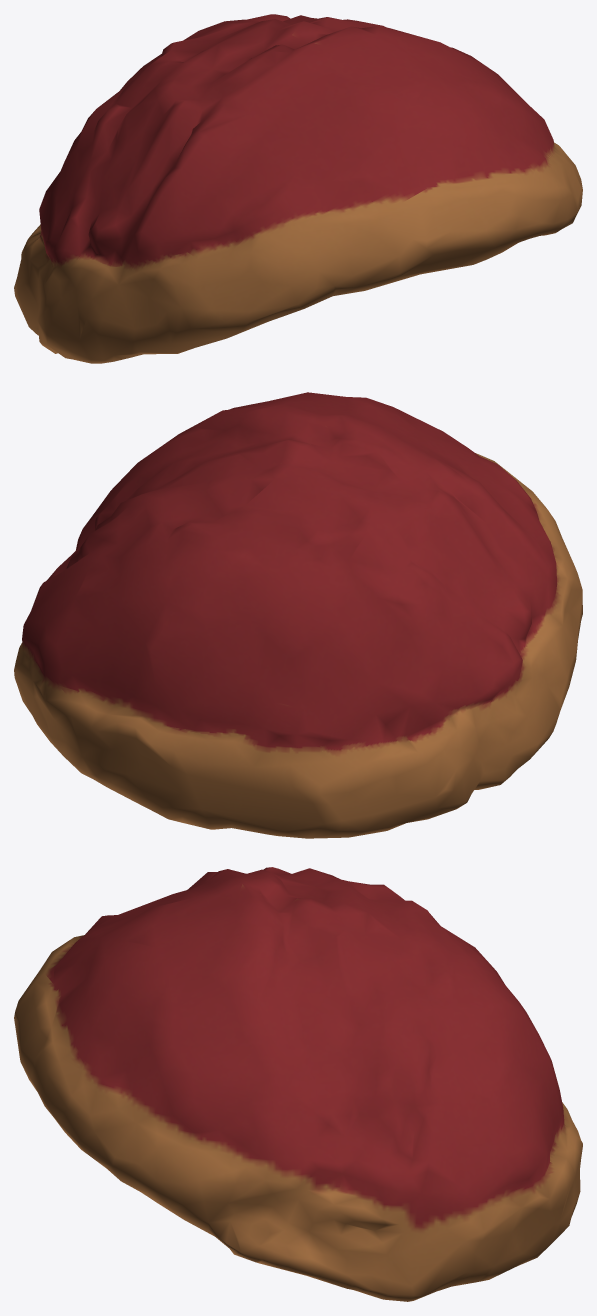
Rendered from knit san fran.glb.
3 renders of one model, top to bottom at view 1: azimuth 30°, elevation 25°; view 2: azimuth 150°, elevation 25°; view 3: azimuth 270°, elevation 25°, orthographic. The views are drawn at different scales.
Visible parts, largest first — view 1: hat_knit_san_fran.001; view 2: hat_knit_san_fran.001; view 3: hat_knit_san_fran.001.
Boxes of the visible parts, x1,y1,x2,y2 form: hat_knit_san_fran.001: (14, 14, 582, 363); hat_knit_san_fran.001: (14, 392, 582, 838); hat_knit_san_fran.001: (14, 867, 582, 1301).
Bounding box in the file's own units: 0.3697 × 0.2293 × 0.3549.
1 material, 1 textured.
